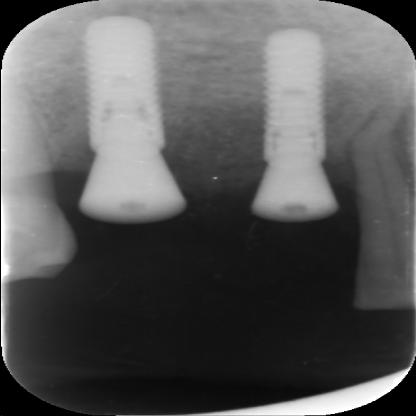ITI: (75, 14, 168, 156), (250, 23, 338, 164)
